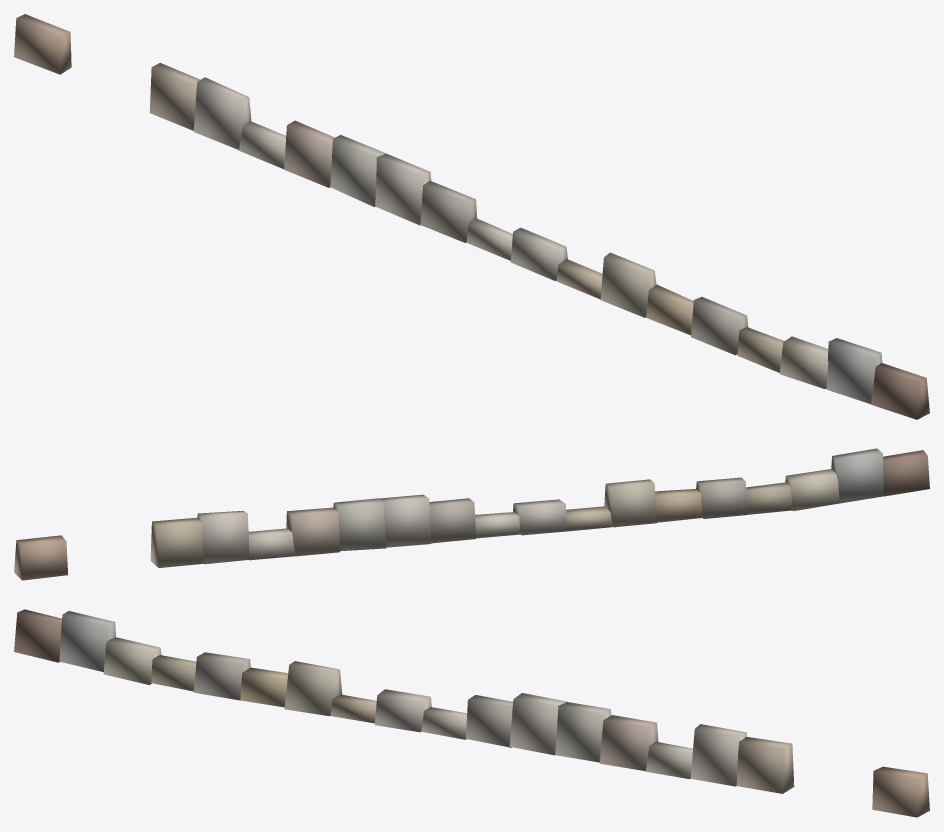
Rendered from farm_-31_-27_far.glb.
3 renders of one model, top to bottom at view 1: azimuth 90°, elevation 25°; view 2: azimuth 150°, elevation 25°; view 3: azimuth 270°, elevation 25°, orthographic. The views are drawn at different scales.
Parts seen in each view (by area): view 1: geometry_0; view 2: geometry_0; view 3: geometry_0.
Part boxes in pixels (x1,y1,x2,y2): geometry_0: [14, 14, 929, 419]; geometry_0: [14, 448, 929, 580]; geometry_0: [14, 609, 929, 817].
Size of the model in its own units: 18.38 by 4.3 by 26.07.
